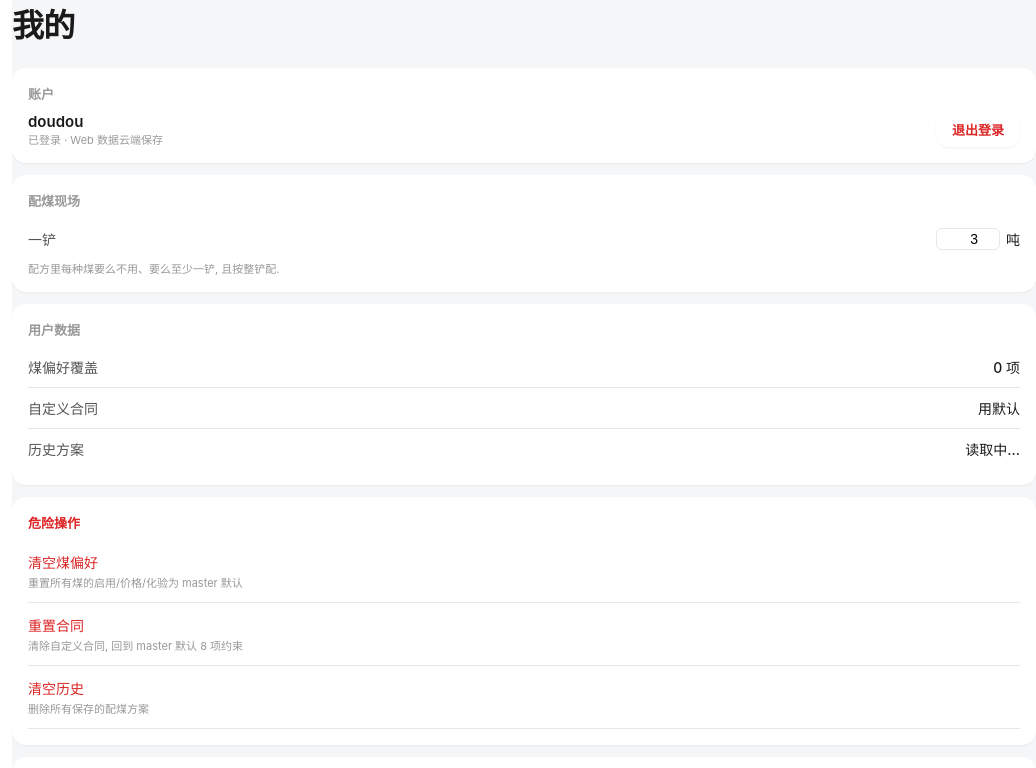
MeScreen 一铲吨数 › 非法值回退上次的值
Replace the text in the number field named "一铲吨数" with "0" at x=968, y=239, box [936,228,1000,250]
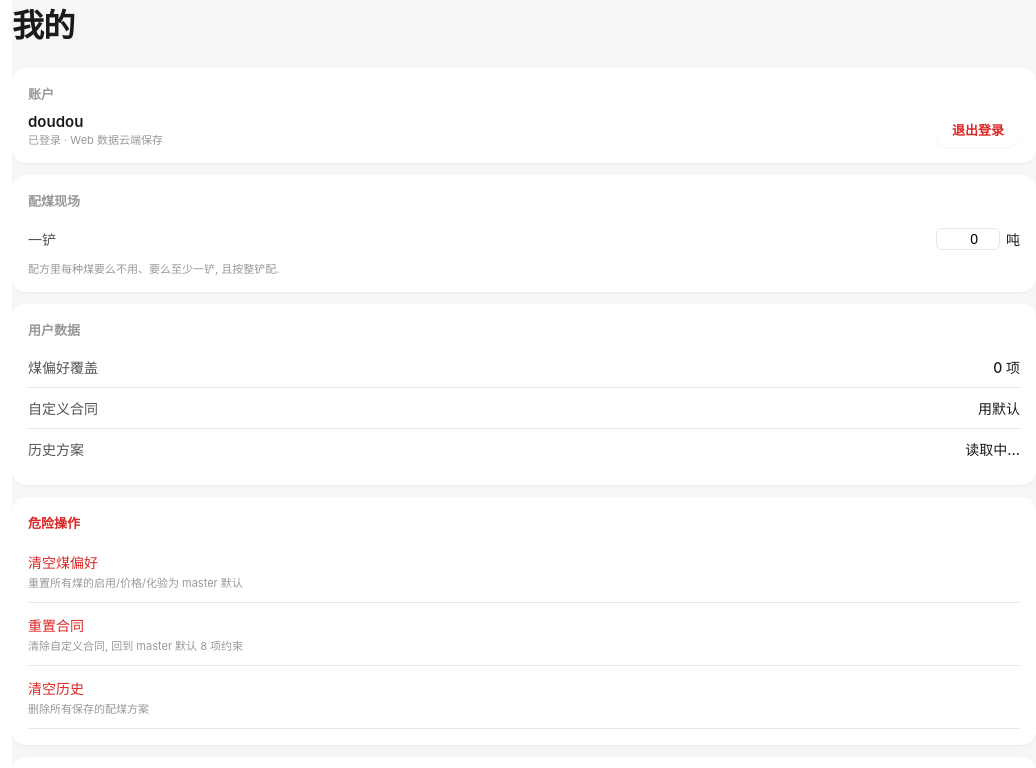
Leave the number field named "一铲吨数", box [936,228,1000,250]
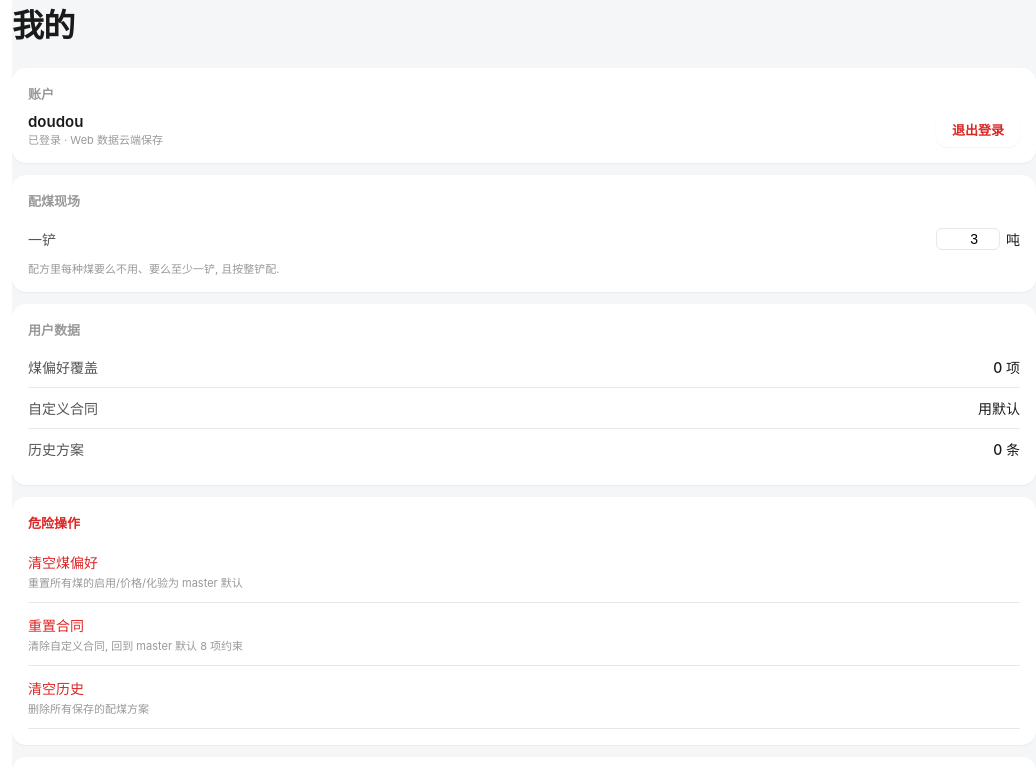
Check: the number field named "一铲吨数" holds "3", box [936,228,1000,250]
